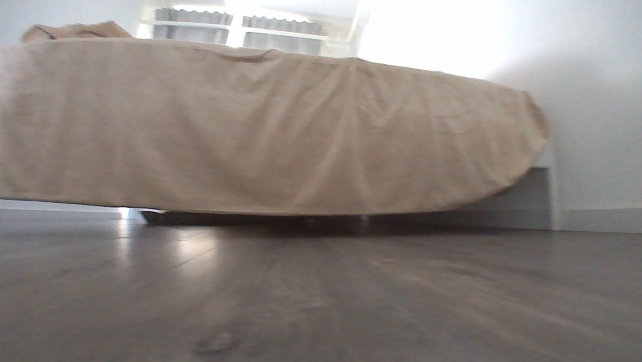bed1: (0, 19, 568, 230)
